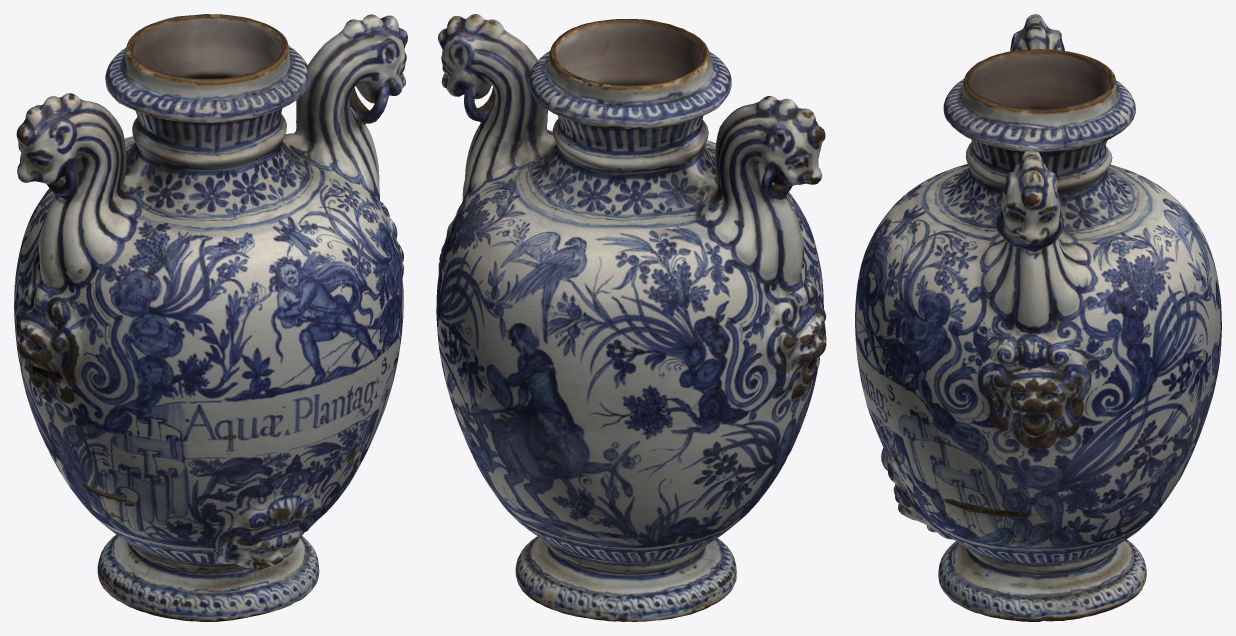
3 views of the same model, side by side, from view 1: azimuth 30°, elevation 25°; view 2: azimuth 150°, elevation 25°; view 3: azimuth 270°, elevation 25° (orthographic). The views are drawn at different scales.
Visible parts, largest first — view 1: Object_9, Object_8, Object_5, Object_7, Object_6, Object_4, Object_3; view 2: Object_9, Object_8, Object_6, Object_5, Object_4, Object_7, Object_3; view 3: Object_9, Object_6, Object_5, Object_4, Object_8, Object_7, Object_3.
Boxes of the visible parts, left/top/right/bottom form: Object_9: left=14, top=14, right=407, bottom=617; Object_8: left=17, top=14, right=407, bottom=619; Object_5: left=16, top=15, right=406, bottom=621; Object_7: left=16, top=15, right=406, bottom=620; Object_6: left=16, top=14, right=407, bottom=621; Object_4: left=16, top=14, right=404, bottom=621; Object_3: left=16, top=14, right=405, bottom=621; Object_9: left=436, top=15, right=823, bottom=617; Object_8: left=440, top=14, right=825, bottom=616; Object_6: left=438, top=14, right=825, bottom=621; Object_5: left=438, top=16, right=826, bottom=621; Object_4: left=438, top=14, right=825, bottom=621; Object_7: left=438, top=14, right=825, bottom=621; Object_3: left=441, top=15, right=826, bottom=618; Object_9: left=855, top=14, right=1221, bottom=621; Object_6: left=884, top=14, right=1146, bottom=621; Object_5: left=885, top=14, right=1145, bottom=621; Object_4: left=886, top=14, right=1135, bottom=621; Object_8: left=883, top=15, right=1144, bottom=620; Object_7: left=893, top=16, right=1144, bottom=621; Object_3: left=887, top=17, right=1119, bottom=621.
Bounding box in the file's own units: 7.3 × 9.56 × 6.34.
2 materials, 1 textured.
